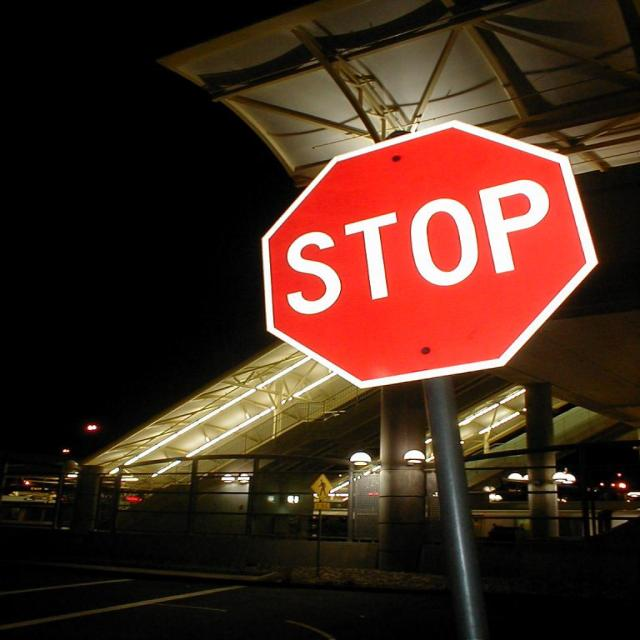Stop-sign: (264, 118, 601, 391)
